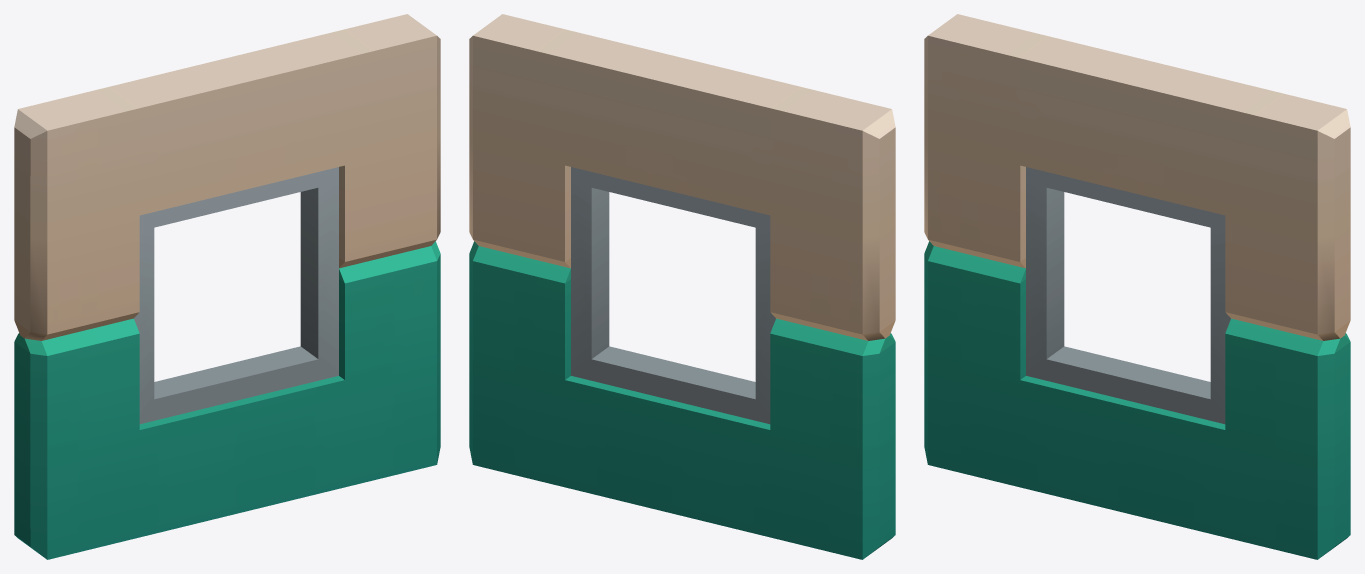
Rendered from kaykit-restaurant-bits-wall-window-open.glb.
The picture shows the model from 3 angles, left to right: view 1: azimuth 30°, elevation 25°; view 2: azimuth 150°, elevation 25°; view 3: azimuth 330°, elevation 25°; orthographic projection.
Parts seen in each view (by area): view 1: wall_window_open; view 2: wall_window_open; view 3: wall_window_open.
Boxes of the visible parts, box(x1,y1,x2,y2) form: wall_window_open: box(14, 14, 440, 559); wall_window_open: box(469, 14, 895, 559); wall_window_open: box(924, 14, 1350, 559).
Size of the model in its own units: 4 by 4 by 0.5.
1 material, 1 textured.
